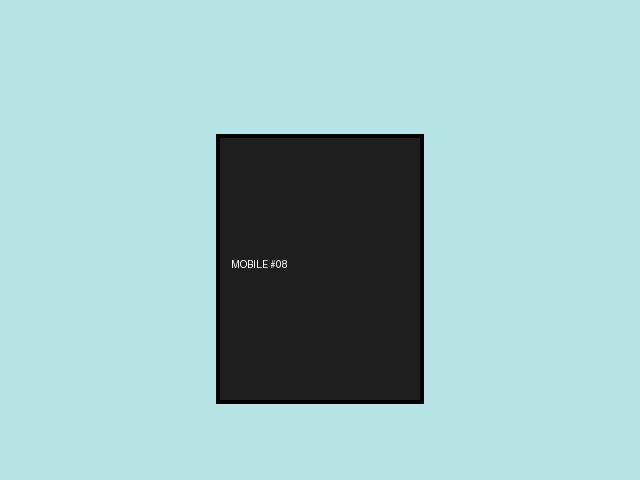mobile_phone: (216, 134, 423, 403)
